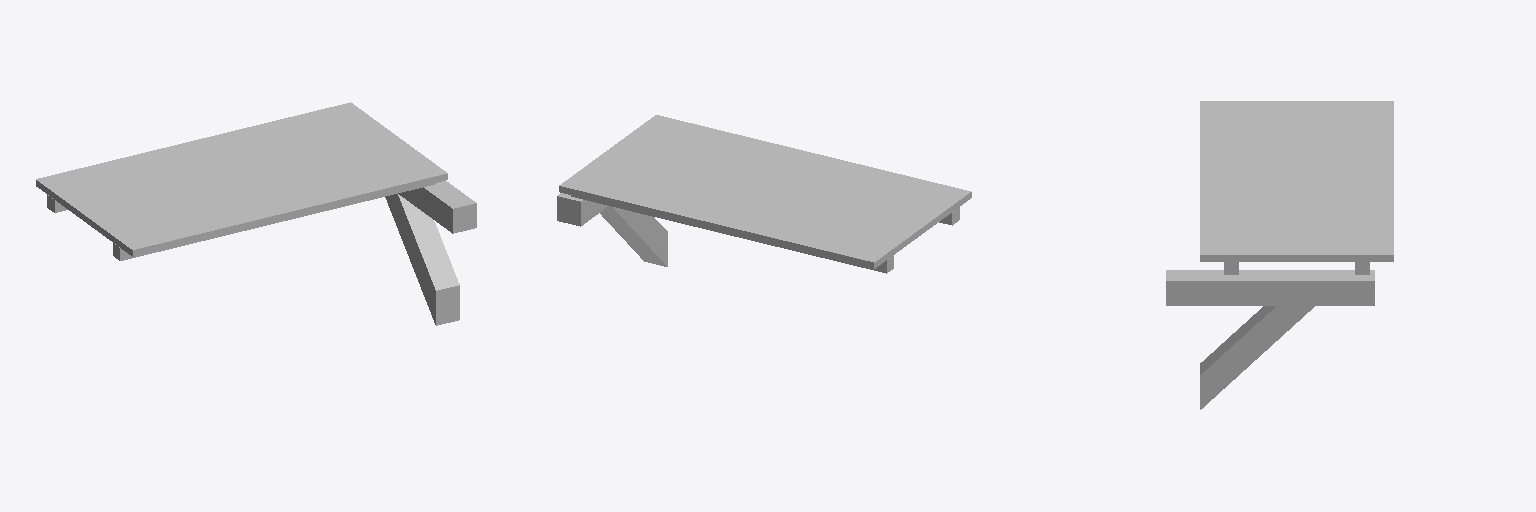
Rendered from Scaffolding.obj.
3 views of the same model, side by side, from view 1: azimuth 30°, elevation 25°; view 2: azimuth 150°, elevation 25°; view 3: azimuth 270°, elevation 25° (orthographic).
Visible parts, largest first — view 1: Cube.26662; view 2: Cube.26662; view 3: Cube.26662.
Boxes of the visible parts, x1,y1,x2,y2 form: Cube.26662: [36, 102, 476, 325]; Cube.26662: [557, 115, 971, 273]; Cube.26662: [1166, 101, 1393, 409].
Size of the model in its own units: 1.56 by 0.6808 by 0.9392.